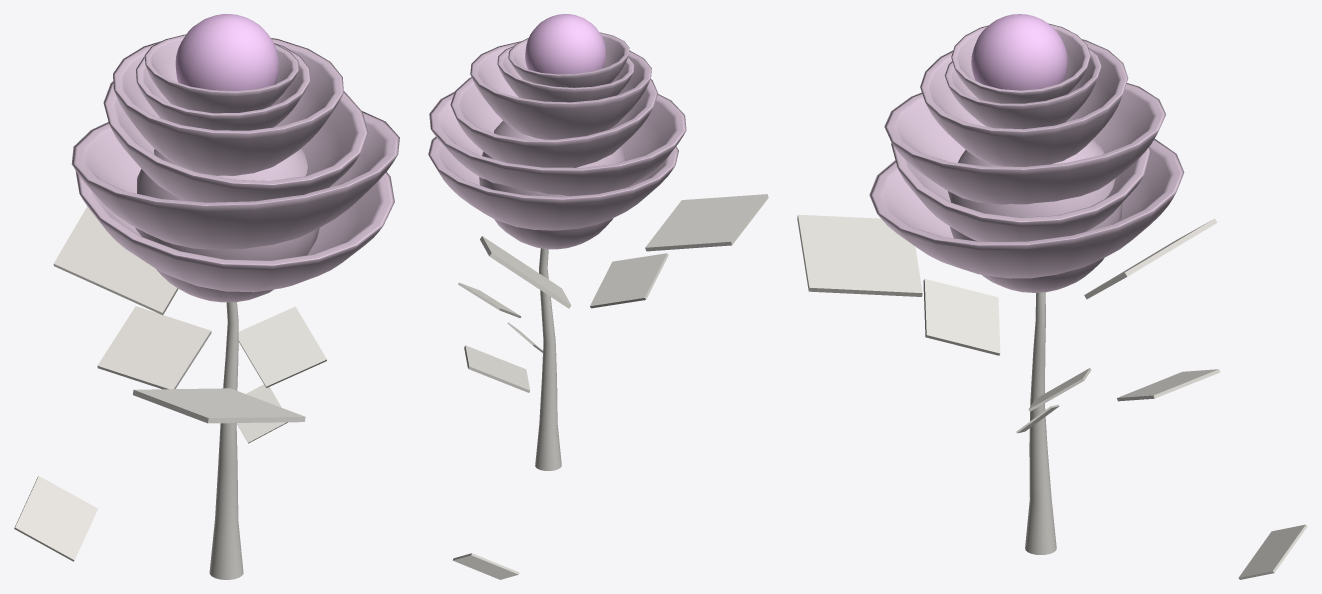
File: sup-flower01.obj
The picture shows the model from 3 angles, left to right: view 1: azimuth 30°, elevation 25°; view 2: azimuth 150°, elevation 25°; view 3: azimuth 270°, elevation 25°; orthographic projection. The views are drawn at different scales.
Parts seen in each view (by area): view 1: pSphere5, pSphere7, pSphere3, pSphere6, pSphere12, pCube8, pCube7, pSphere11, pCylinder3, pSphere10, pCube1, pCube2 (+3 smaller); view 2: pSphere5, pSphere3, pSphere7, pSphere6, pCube5, pSphere12, pCylinder3, pSphere11, pCube6, pSphere10, pSphere9, pCube8 (+2 smaller); view 3: pSphere6, pSphere3, pSphere7, pCube5, pSphere5, pSphere12, pSphere11, pCylinder3, pCube6, pSphere9, pSphere10, pCube2 (+2 smaller).
Part boxes in pixels (x1,y1,x2,y2): pSphere5: [71, 111, 399, 249]; pSphere7: [113, 38, 343, 175]; pSphere3: [75, 171, 394, 292]; pSphere6: [103, 81, 368, 202]; pSphere12: [175, 14, 278, 91]; pCube8: [97, 306, 211, 389]; pCube7: [53, 206, 178, 315]; pSphere11: [135, 149, 319, 302]; pCylinder3: [209, 302, 243, 579]; pSphere10: [144, 34, 298, 113]; pCube1: [238, 306, 326, 387]; pCube2: [14, 476, 97, 561]; pSphere5: [429, 91, 686, 196]; pSphere3: [428, 136, 678, 230]; pSphere7: [470, 41, 651, 139]; pSphere6: [450, 77, 658, 167]; pCube5: [645, 194, 768, 251]; pSphere12: [525, 14, 606, 74]; pCylinder3: [535, 248, 561, 470]; pSphere11: [479, 121, 626, 249]; pCube6: [590, 253, 668, 308]; pSphere10: [508, 32, 629, 87]; pSphere9: [497, 46, 634, 102]; pCube8: [464, 345, 530, 392]; pSphere6: [884, 83, 1165, 204]; pSphere3: [869, 139, 1184, 278]; pSphere7: [920, 39, 1128, 166]; pCube5: [797, 214, 922, 296]; pSphere5: [891, 142, 1150, 241]; pSphere12: [971, 14, 1067, 90]; pSphere11: [948, 139, 1122, 292]; pCylinder3: [1025, 292, 1056, 554]; pCube6: [923, 279, 1000, 355]; pSphere9: [944, 47, 1101, 129]; pSphere10: [951, 23, 1090, 103]; pCube2: [1238, 524, 1307, 579].
Size of the model in its own units: 0.0764 by 0.1453 by 0.1164.
